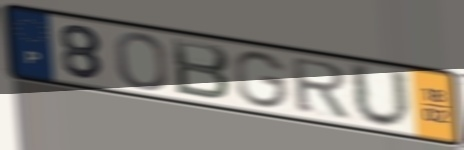8: (58, 23, 106, 82)
B: (168, 35, 232, 103)
G: (231, 49, 292, 111)
O: (113, 30, 171, 92)
R: (288, 55, 353, 121)
U: (347, 60, 416, 131)
